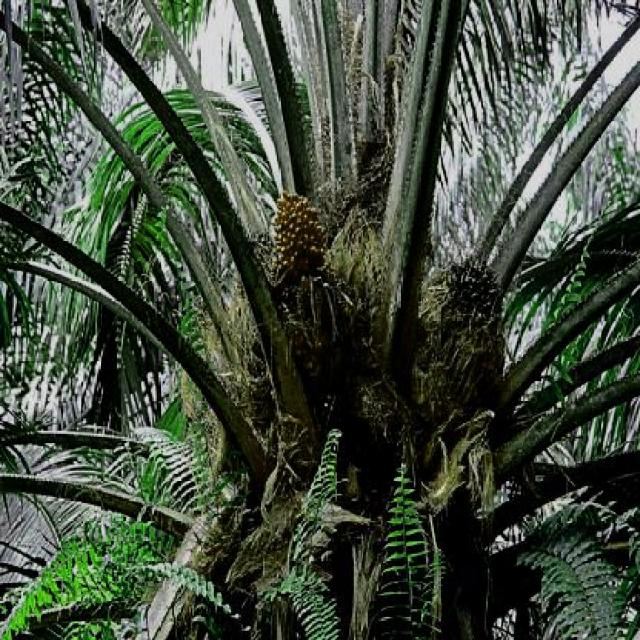palm-oil: (438, 243, 518, 403), (259, 191, 346, 325)
